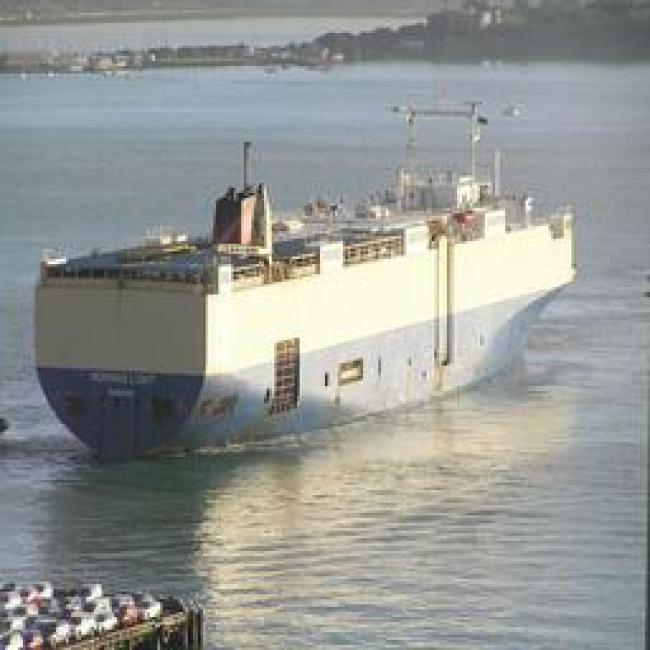Ship: (32, 179, 576, 445)
